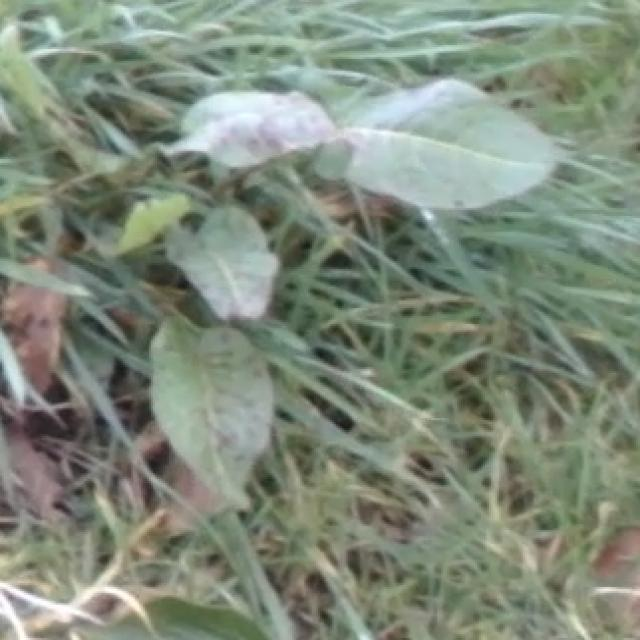organic waste: (103, 58, 542, 479)
